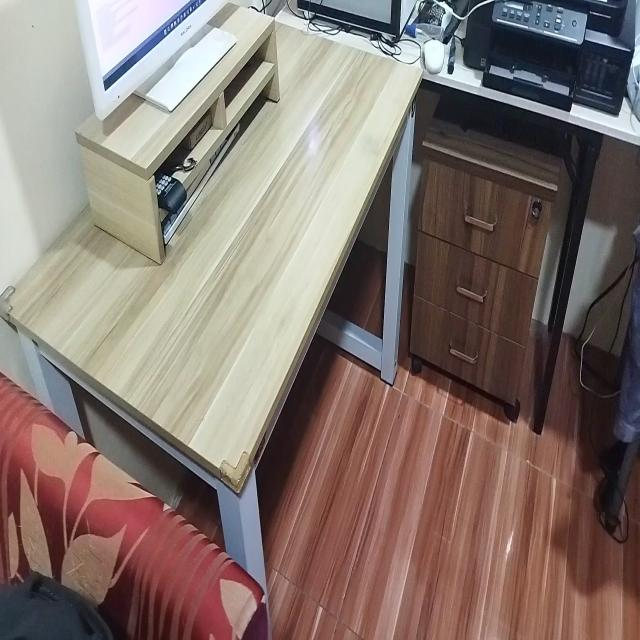table: (23, 21, 414, 519)
